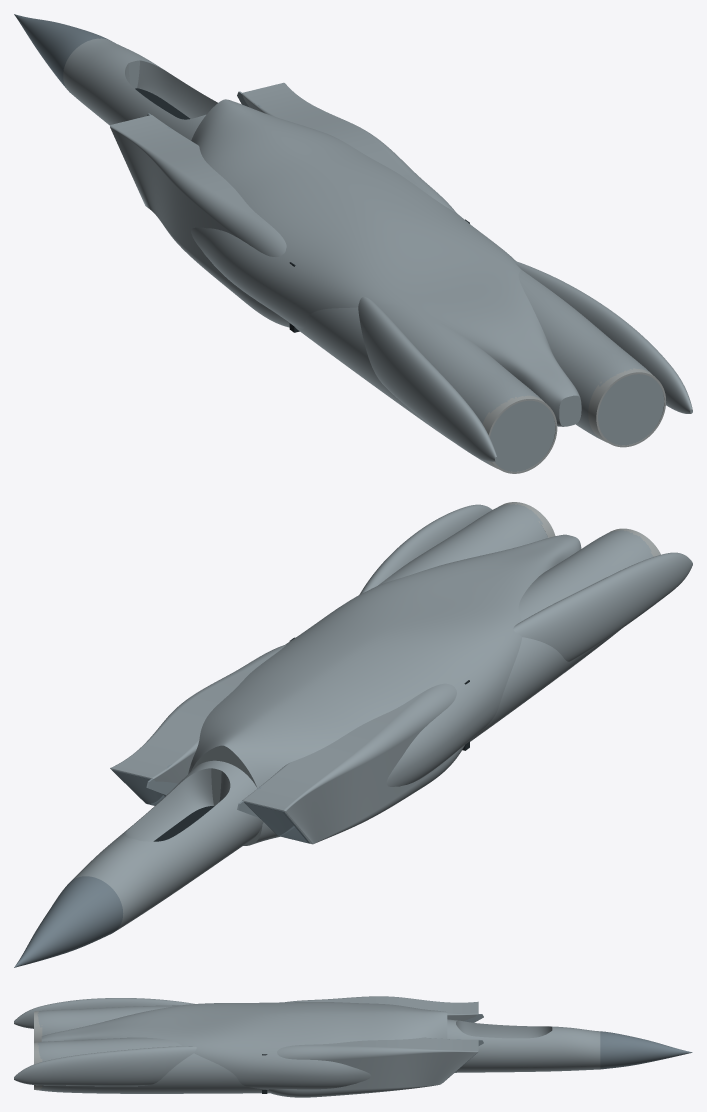
Rendered from intakes.glb.
3 views of the same model, one above another, from view 1: azimuth 30°, elevation 25°; view 2: azimuth 150°, elevation 25°; view 3: azimuth 270°, elevation 25° (orthographic). The views are drawn at different scales.
Parts seen in each view (by area): view 1: airframe_intakes (×3); view 2: airframe_intakes (×3); view 3: airframe_intakes (×3).
Part boxes in pixels (left/top/right/bottom): airframe_intakes (×3): left=14, top=14, right=692, bottom=473; airframe_intakes (×3): left=14, top=504, right=692, bottom=967; airframe_intakes (×3): left=14, top=996, right=692, bottom=1097.
Bounding box in the file's own units: 4.08 × 1.97 × 18.92.
